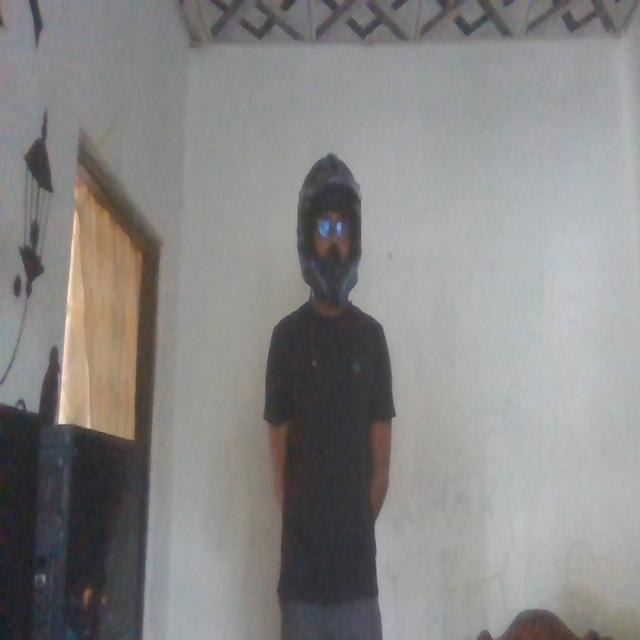Helmet_Wearer: (291, 154, 365, 319)
Person: (259, 143, 402, 640)
